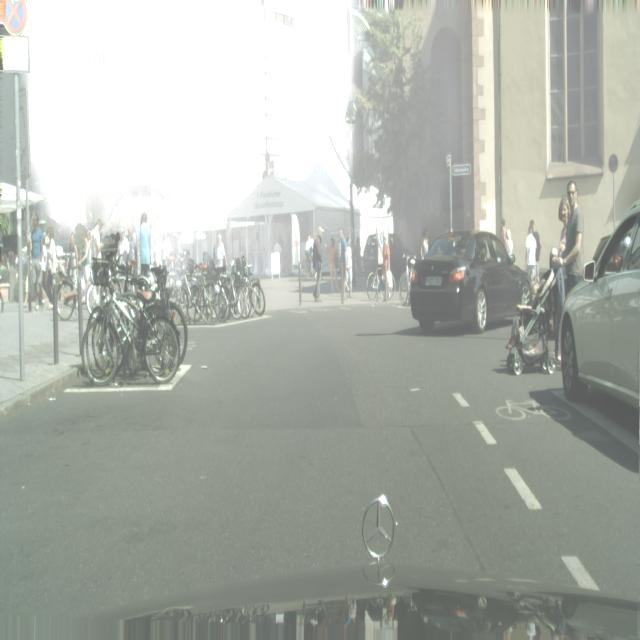car: (82, 276, 180, 386), (240, 261, 266, 315), (367, 268, 394, 302), (399, 254, 414, 305)
person: (507, 184, 582, 378), (559, 181, 584, 299), (27, 214, 46, 313), (525, 220, 541, 289), (91, 216, 104, 286), (139, 212, 152, 278), (313, 224, 323, 301), (339, 229, 349, 294), (213, 233, 228, 274), (382, 232, 391, 296), (328, 235, 338, 292), (345, 234, 352, 296), (420, 228, 430, 259)
truck: (559, 199, 640, 412), (407, 227, 530, 332)
